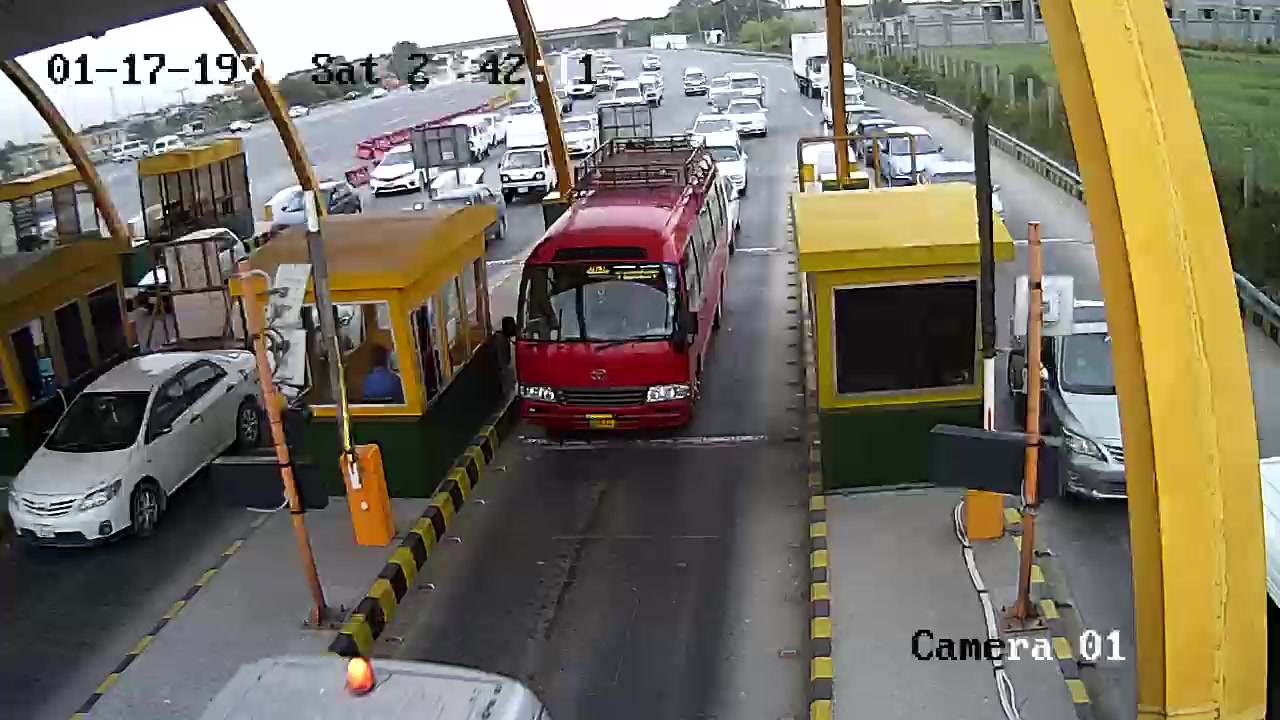F3: (514, 133, 737, 453)
